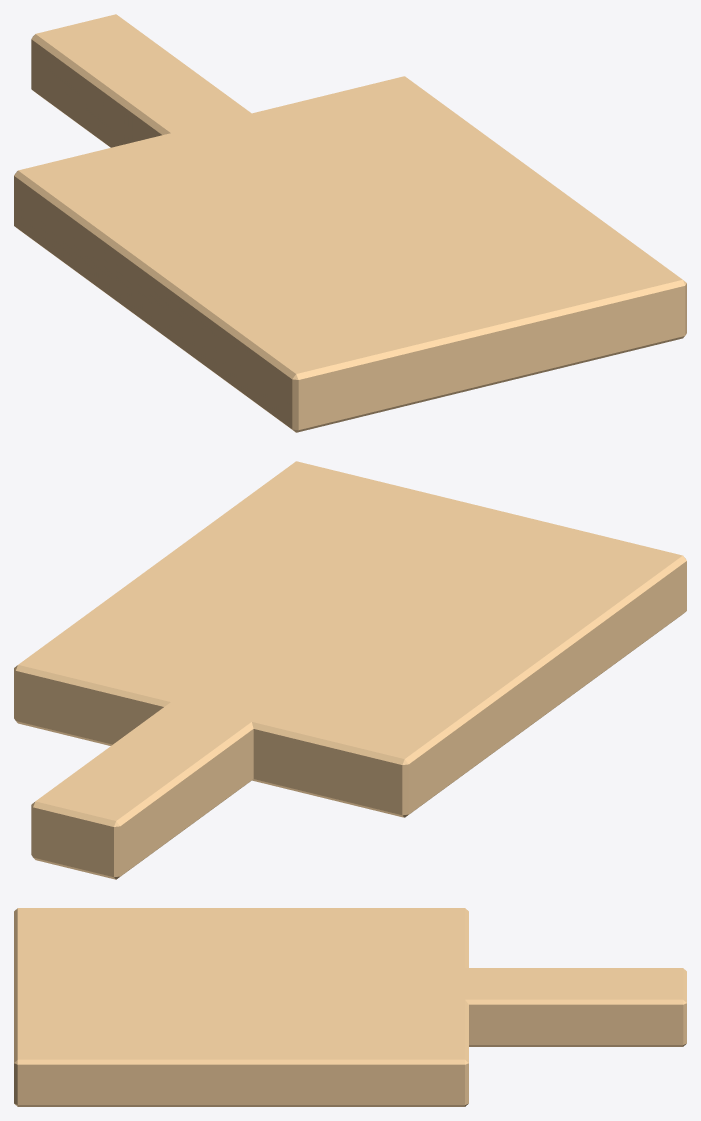
File: PRP_ChoppingBoard.fbx
3 renders of one model, top to bottom at view 1: azimuth 30°, elevation 25°; view 2: azimuth 150°, elevation 25°; view 3: azimuth 270°, elevation 25°, orthographic. The views are drawn at different scales.
Visible parts, largest first — view 1: pCube75; view 2: pCube75; view 3: pCube75.
Part boxes in pixels (x1=…): pCube75: x1=14, y1=14, x2=686, y2=432; pCube75: x1=14, y1=461, x2=686, y2=879; pCube75: x1=14, y1=908, x2=686, y2=1106.
Bounding box in the file's own units: 0.434 × 0.0617 × 0.7967.
